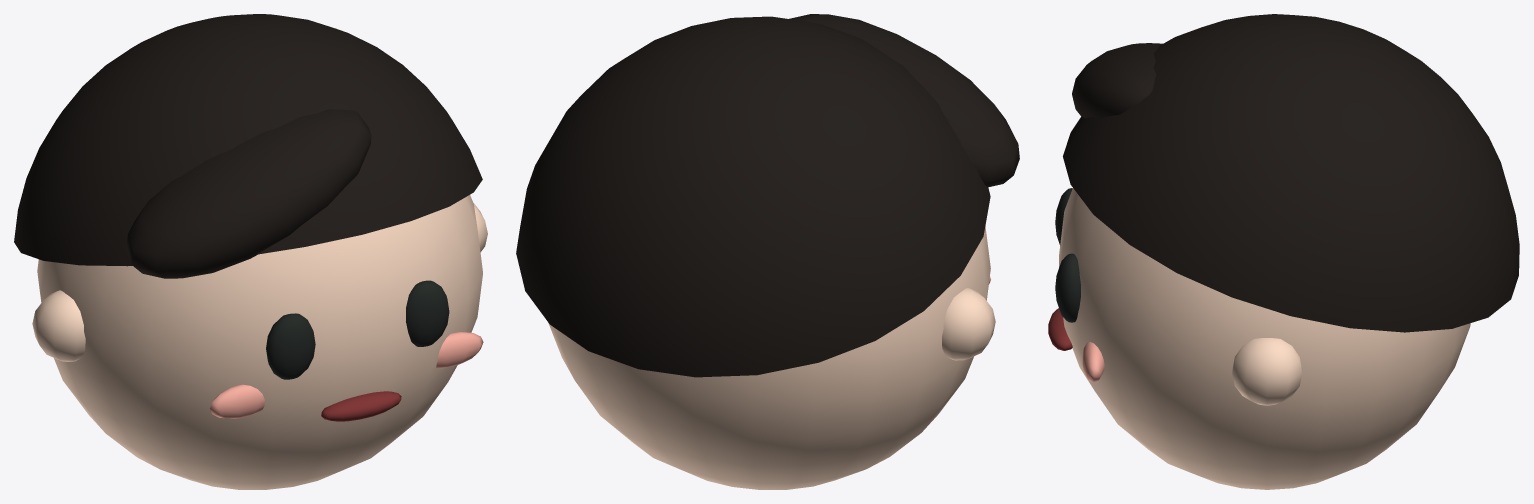
File: jihoo.glb
The picture shows the model from 3 angles, left to right: view 1: azimuth 30°, elevation 25°; view 2: azimuth 150°, elevation 25°; view 3: azimuth 270°, elevation 25°; orthographic projection.
Parts seen in each view (by area): view 1: face, hair, fringe, ear-1, eyeL, eyeR, mouth, cheekL, cheekR; view 2: hair, face, fringe, ear-1; view 3: hair, face, fringe, ear1, eyeR, cheekR, mouth.
Part boxes in pixels (x1,y1,x2,y2): face: (37, 195, 482, 489); hair: (14, 14, 482, 266); fringe: (126, 109, 371, 278); ear-1: (32, 290, 85, 361); eyeL: (266, 313, 315, 379); eyeR: (406, 280, 449, 346); mouth: (321, 391, 401, 421); cheekL: (210, 384, 264, 418); cheekR: (436, 332, 483, 368); hair: (516, 16, 990, 377); face: (548, 226, 990, 489); fringe: (789, 14, 1019, 187); ear-1: (942, 288, 995, 360); hair: (1063, 14, 1519, 332); face: (1059, 188, 1470, 489); fringe: (1072, 43, 1162, 118); ear1: (1232, 338, 1302, 405); eyeR: (1055, 253, 1080, 322); cheekR: (1082, 342, 1104, 382); mouth: (1048, 308, 1072, 350).
Bounding box in the file's own units: 1.4 × 1.29 × 1.28.
